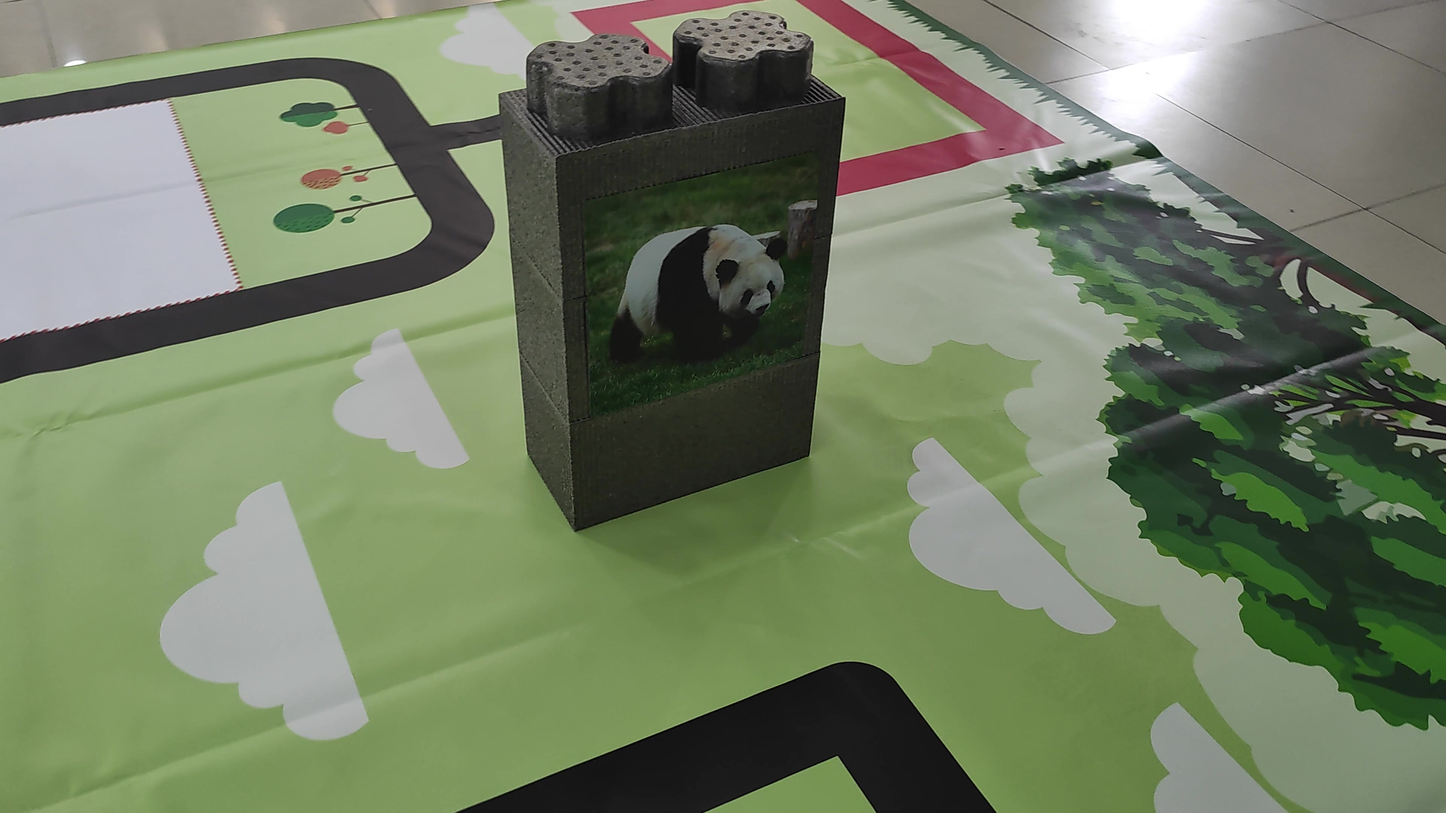panda: (606, 203, 805, 362)
